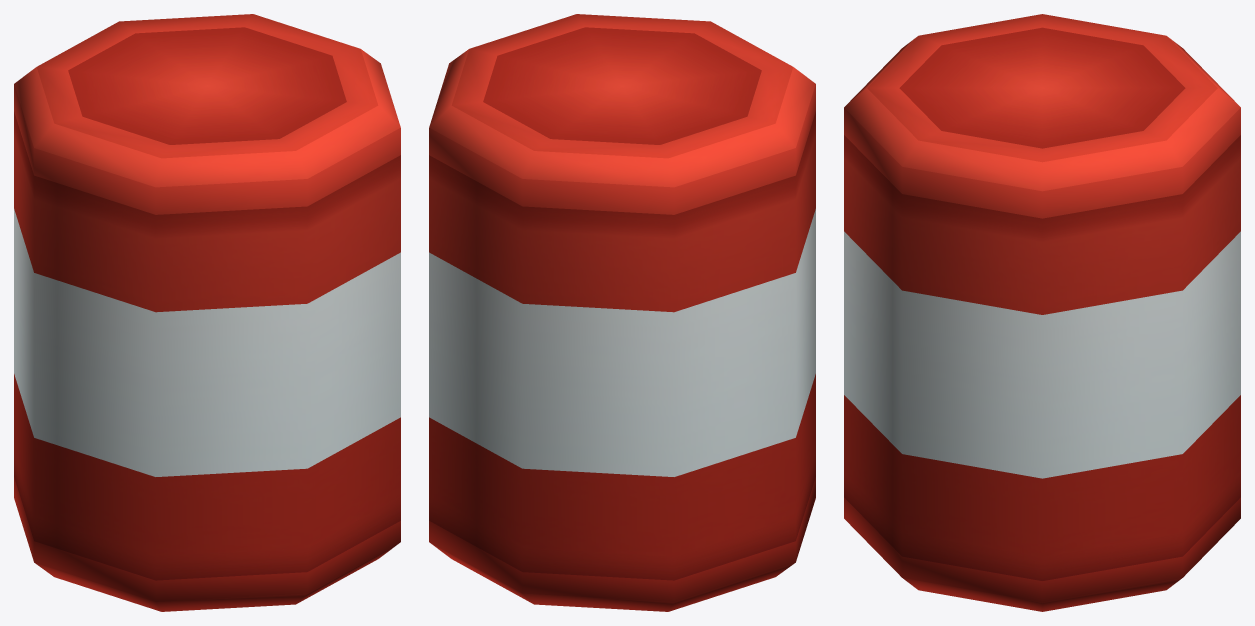
File: barrier_barrel.fbx
3 renders of one model, left to right at view 1: azimuth 30°, elevation 25°; view 2: azimuth 150°, elevation 25°; view 3: azimuth 270°, elevation 25°, orthographic.
Parts seen in each view (by area): view 1: barrier_barrel; view 2: barrier_barrel; view 3: barrier_barrel.
Boxes of the visible parts, x1,y1,x2,y2 form: barrier_barrel: (14, 14, 400, 611); barrier_barrel: (429, 14, 815, 611); barrier_barrel: (844, 14, 1240, 611).
Size of the model in its own units: 100 by 125 by 100.
